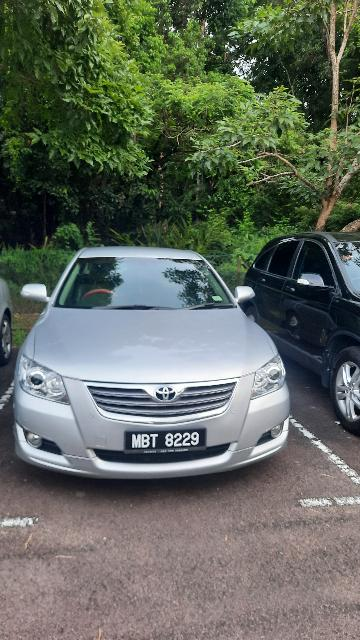License_Plate: (123, 425, 211, 458)
car: (12, 242, 297, 489), (245, 228, 360, 434)
